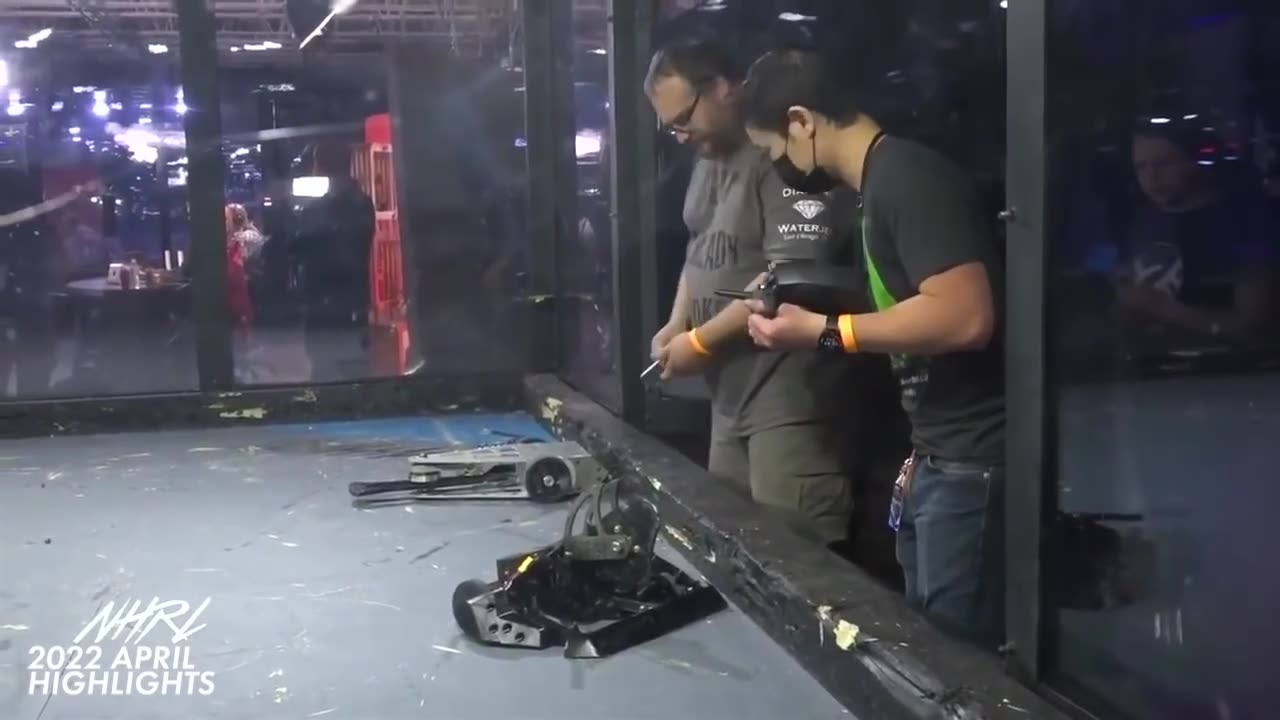combatbot: (449, 537, 734, 658), (408, 439, 583, 507)
